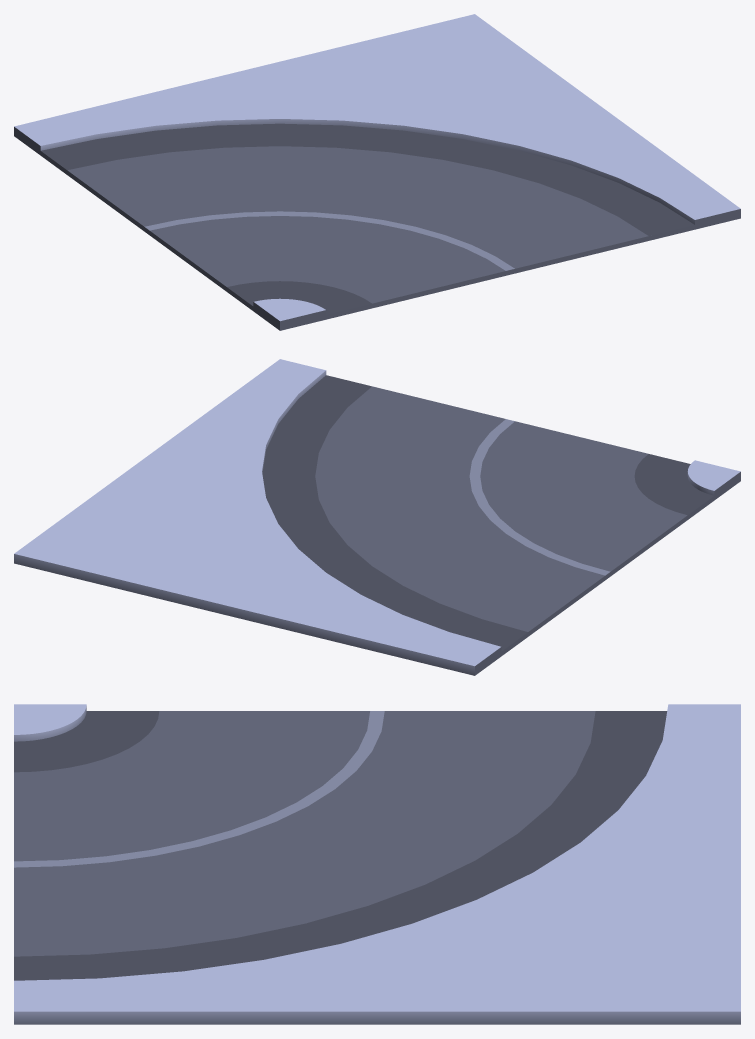
The model's file is road-bend-sidewalk.glb.
3 renders of one model, top to bottom at view 1: azimuth 30°, elevation 25°; view 2: azimuth 150°, elevation 25°; view 3: azimuth 270°, elevation 25°, orthographic. The views are drawn at different scales.
Visible parts, largest first — view 1: road-bend-sidewalk; view 2: road-bend-sidewalk; view 3: road-bend-sidewalk.
Part boxes in pixels (bbox=[...]): road-bend-sidewalk: bbox=[14, 14, 740, 330]; road-bend-sidewalk: bbox=[14, 359, 740, 675]; road-bend-sidewalk: bbox=[14, 704, 740, 1024].
Bounding box in the file's own units: 1 × 0.02 × 1.
Materials: 1 (1 with a texture image).
